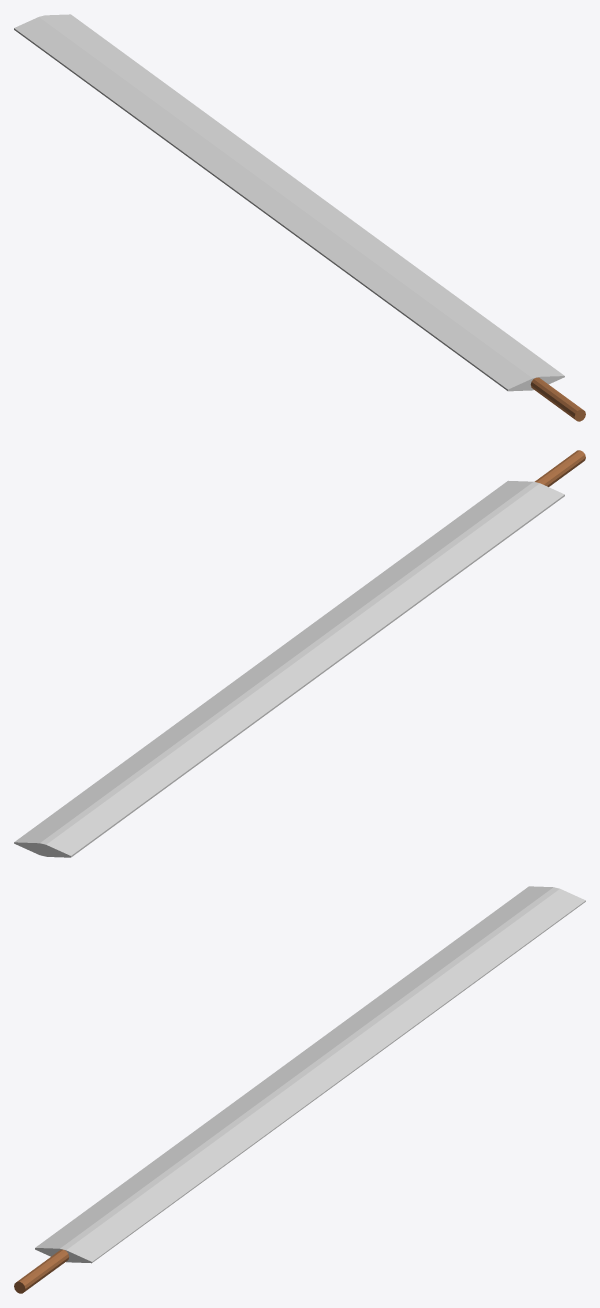
File: sword.glb
3 renders of one model, top to bottom at view 1: azimuth 30°, elevation 25°; view 2: azimuth 150°, elevation 25°; view 3: azimuth 330°, elevation 25°, orthographic.
Visible parts, largest first — view 1: Cube, Cylinder; view 2: Cube, Cylinder; view 3: Cube, Cylinder.
Boxes of the visible parts, x1=… form: Cube: x1=14, y1=14, x2=564, y2=391; Cylinder: x1=530, y1=377, x2=585, y2=421; Cube: x1=14, y1=480, x2=564, y2=857; Cylinder: x1=534, y1=450, x2=585, y2=486; Cube: x1=35, y1=886, x2=585, y2=1263; Cylinder: x1=14, y1=1249, x2=68, y2=1293.
Size of the model in its own units: 0.5 by 0.1 by 8.17.
